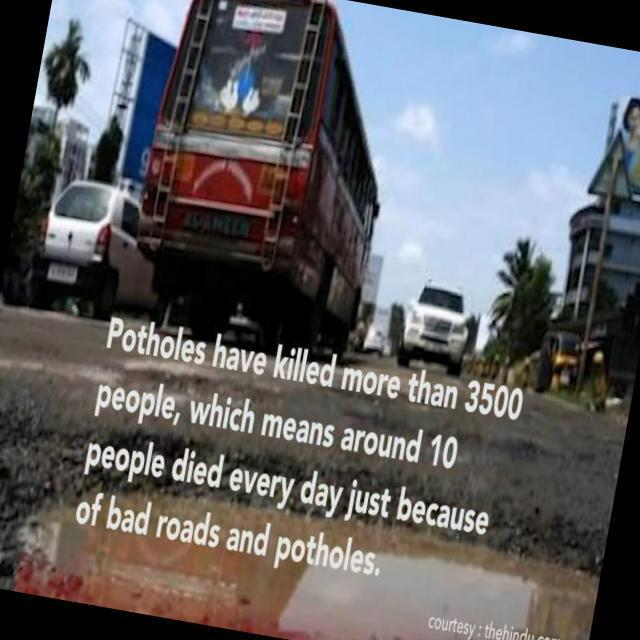pothole: (20, 452, 607, 640)
